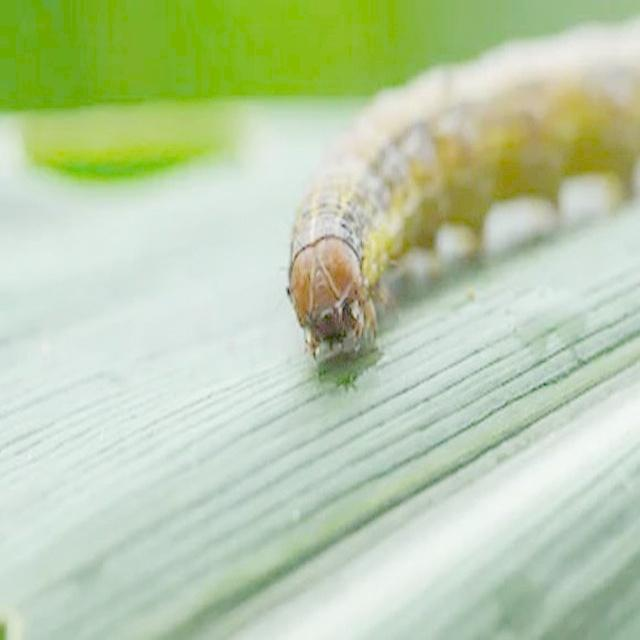gusano_cogollero: (284, 14, 640, 366)
